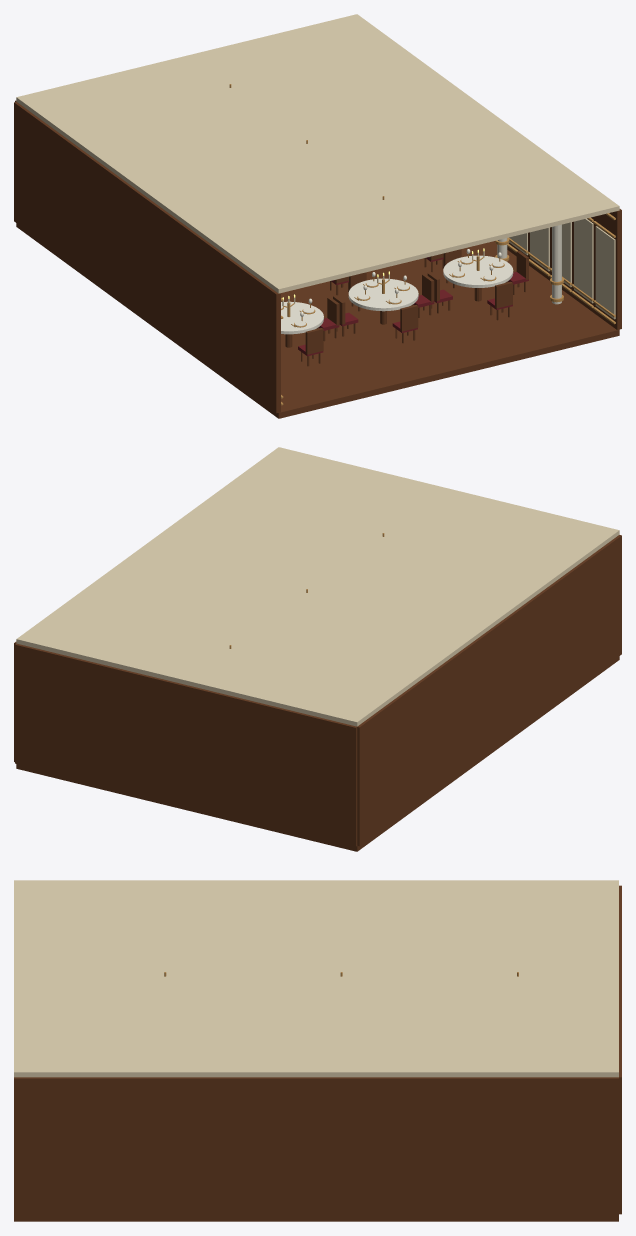
File: dining.glb
3 renders of one model, top to bottom at view 1: azimuth 30°, elevation 25°; view 2: azimuth 150°, elevation 25°; view 3: azimuth 270°, elevation 25°, orthographic. The views are drawn at different scales.
Parts seen in each view (by area): view 1: DINING 10 | Linen and plaster, DINING 09 | Carved dark oak, DINING 12 | Porcelain, DINING 05 | Brushed brass, DINING 11 | Burgundy velvet, DINING 03 | Warm ivory paint; view 2: DINING 10 | Linen and plaster, DINING 09 | Carved dark oak; view 3: DINING 10 | Linen and plaster, DINING 09 | Carved dark oak.
Boxes of the visible parts, bbox=[...] form: DINING 10 | Linen and plaster: bbox=[16, 14, 619, 319]; DINING 09 | Carved dark oak: bbox=[14, 100, 621, 418]; DINING 12 | Porcelain: bbox=[281, 255, 513, 334]; DINING 05 | Brushed brass: bbox=[229, 84, 615, 405]; DINING 11 | Burgundy velvet: bbox=[298, 257, 528, 356]; DINING 03 | Warm ivory paint: bbox=[497, 224, 561, 304]; DINING 10 | Linen and plaster: bbox=[16, 447, 619, 726]; DINING 09 | Carved dark oak: bbox=[14, 535, 621, 851]; DINING 10 | Linen and plaster: bbox=[14, 880, 618, 1077]; DINING 09 | Carved dark oak: bbox=[14, 885, 621, 1221].
Bounding box in the file's own units: 18.25 × 6.71 × 24.12.
